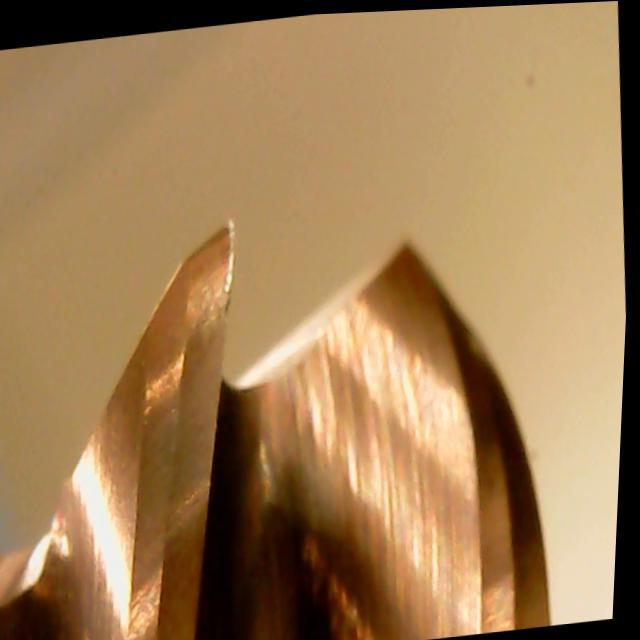Tool-wear-class-0: (126, 211, 262, 544)
